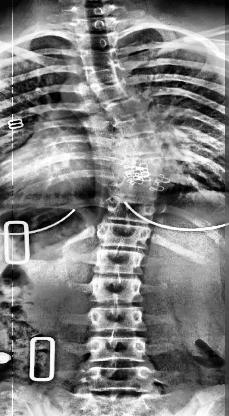Vertebrae: (77, 362, 157, 400), (86, 272, 146, 304), (87, 336, 147, 366), (84, 304, 146, 332), (98, 221, 154, 249), (93, 248, 147, 276), (104, 201, 160, 225), (119, 155, 167, 179), (121, 136, 163, 160), (109, 183, 164, 201), (103, 98, 144, 122), (74, 31, 118, 51), (82, 68, 124, 88), (78, 48, 120, 68), (116, 116, 158, 134), (95, 86, 133, 104)
